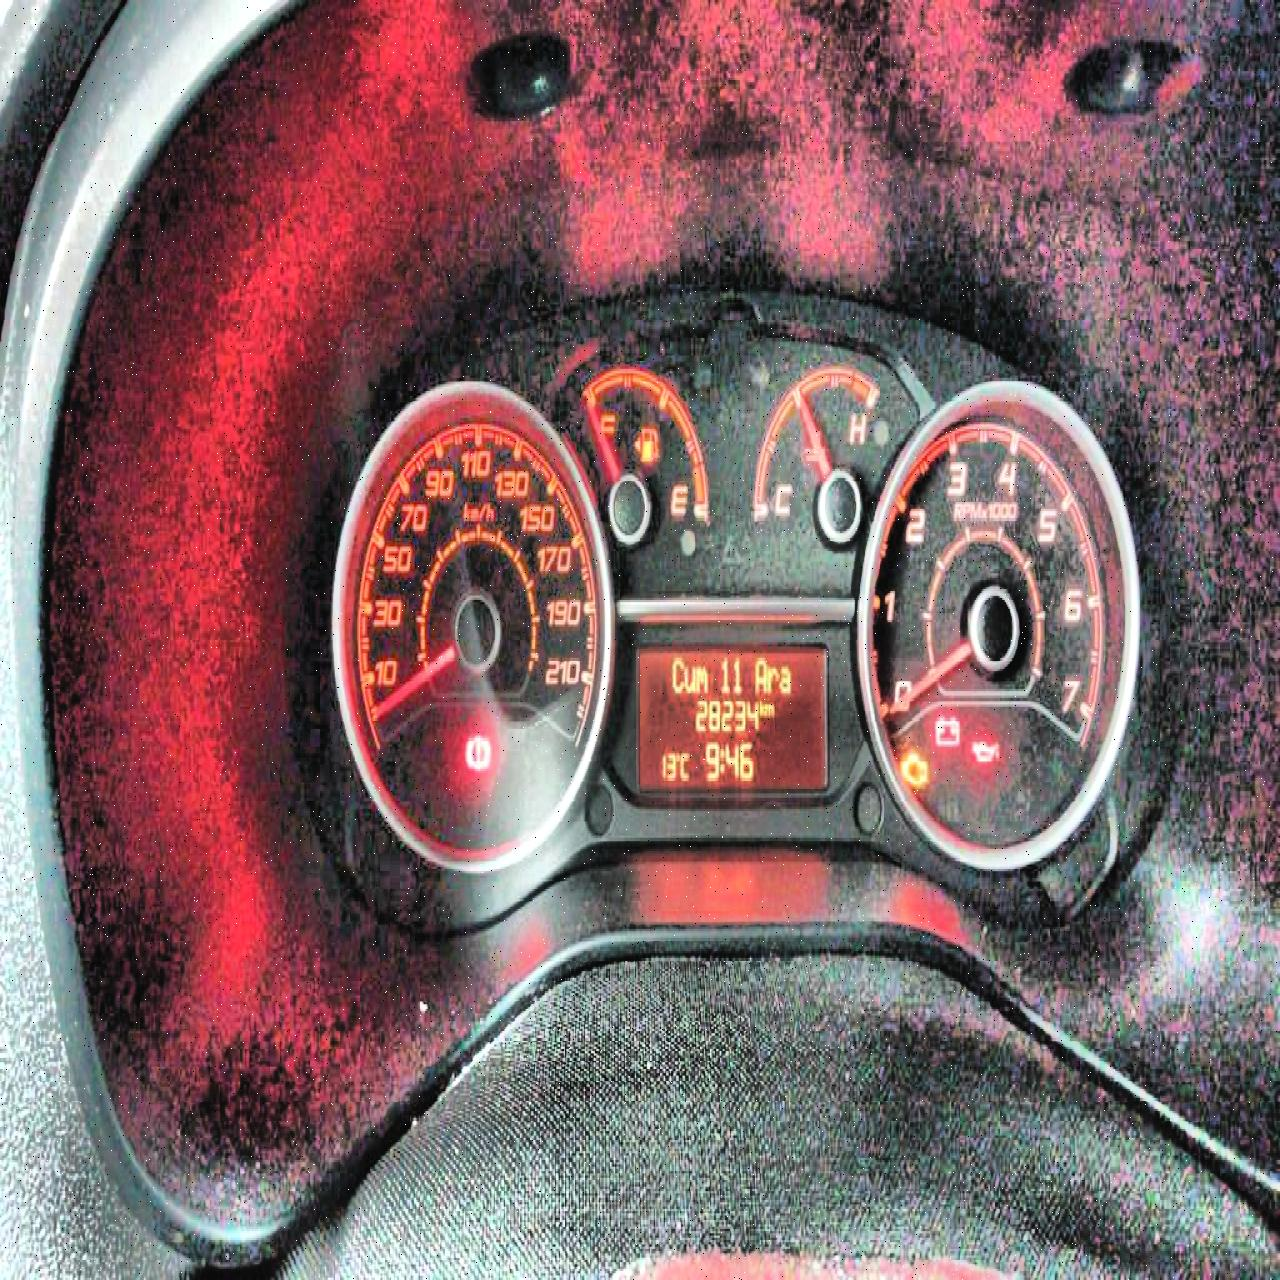1: (730, 654, 742, 694), (720, 653, 729, 692), (660, 751, 665, 779)
2: (694, 695, 708, 729), (720, 697, 733, 731)
3: (734, 697, 745, 731), (665, 751, 675, 778)
4: (723, 742, 737, 776), (747, 697, 757, 729)
6: (738, 740, 754, 778)
8: (708, 696, 720, 731)
9: (703, 738, 717, 778)
X: (670, 654, 685, 694), (754, 655, 767, 692), (777, 665, 791, 692), (695, 662, 707, 694), (767, 662, 778, 692), (685, 662, 695, 694), (679, 749, 689, 779), (764, 700, 774, 716), (719, 744, 723, 776), (757, 695, 763, 717)
odometer: (633, 640, 829, 798)
